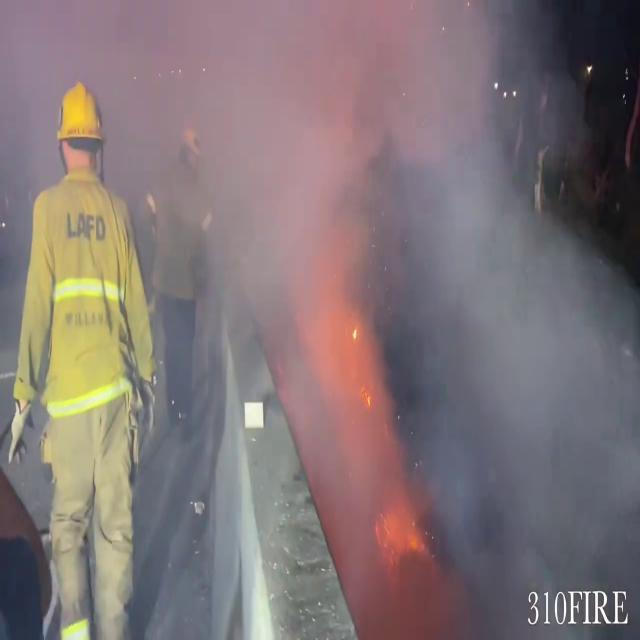Smoke: (97, 1, 624, 618)
